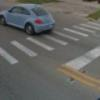cars: (0, 4, 56, 35)
